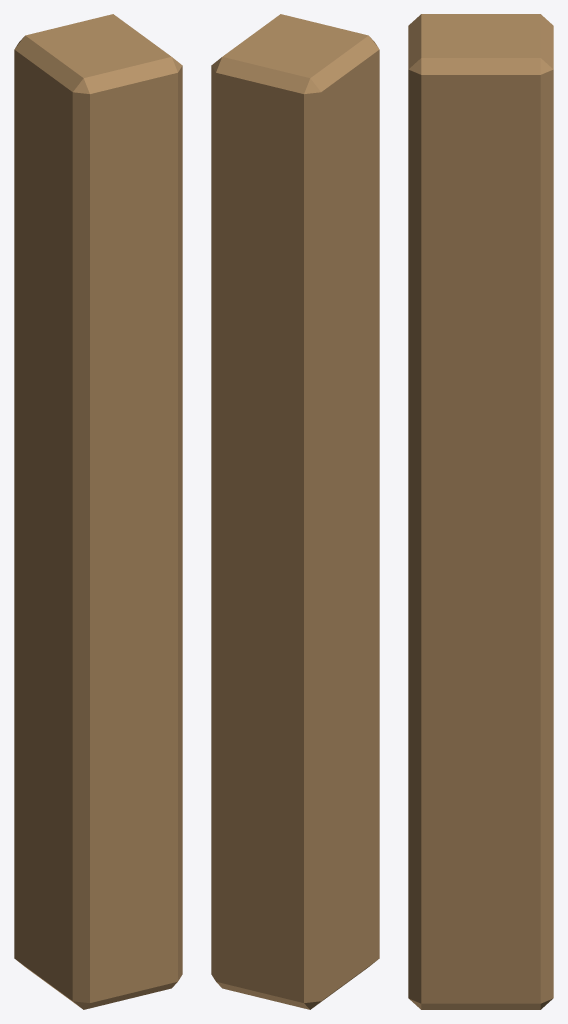
File: Balk1.fbx
3 renders of one model, left to right at view 1: azimuth 30°, elevation 25°; view 2: azimuth 150°, elevation 25°; view 3: azimuth 270°, elevation 25°, orthographic. The views are drawn at different scales.
Parts seen in each view (by area): view 1: WallWoodV.116; view 2: WallWoodV.116; view 3: WallWoodV.116.
Boxes of the visible parts, x1,y1,x2,y2 form: WallWoodV.116: (14, 14, 182, 1009); WallWoodV.116: (211, 14, 379, 1009); WallWoodV.116: (408, 14, 553, 1009).
Bounding box in the file's own units: 0.2523 × 2.05 × 0.2825.
